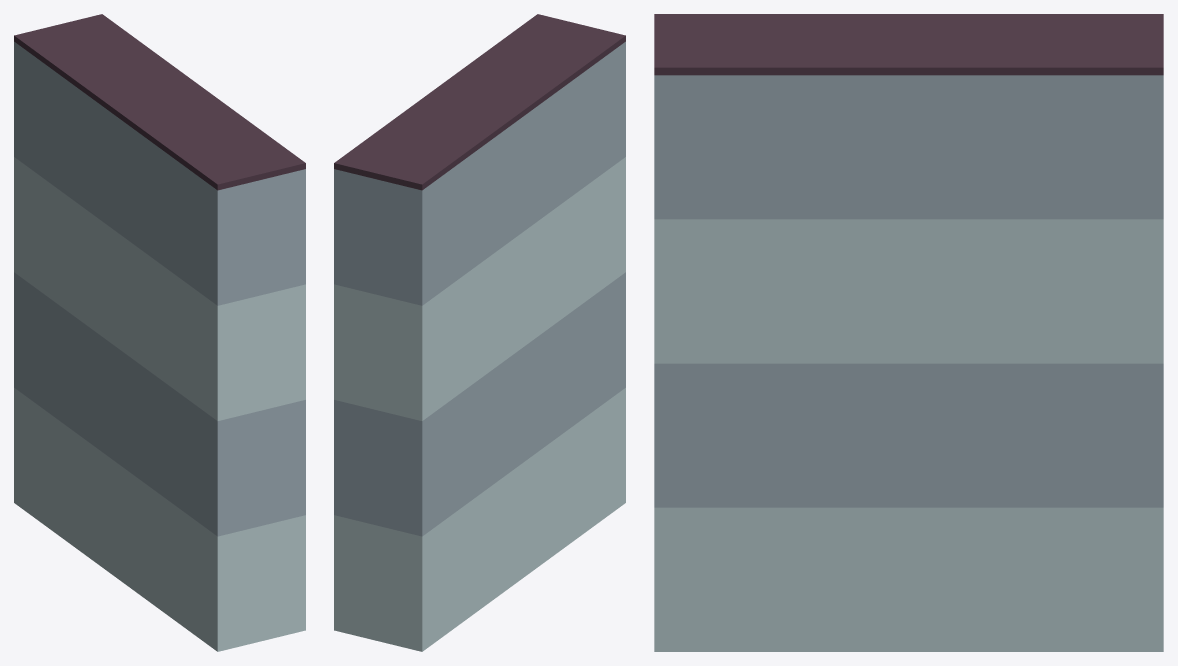
The model's file is Lv3GroundSmall2.fbx.
3 views of the same model, side by side, from view 1: azimuth 30°, elevation 25°; view 2: azimuth 150°, elevation 25°; view 3: azimuth 270°, elevation 25° (orthographic). The views are drawn at different scales.
Parts seen in each view (by area): view 1: Lv3Floor5; view 2: Lv3Floor5; view 3: Lv3Floor5.
Part boxes in pixels (x1,y1,x2,y2): Lv3Floor5: (14,14,305,651); Lv3Floor5: (334,14,625,651); Lv3Floor5: (654,14,1163,651).
Bounding box in the file's own units: 800 × 3200 × 4051.
